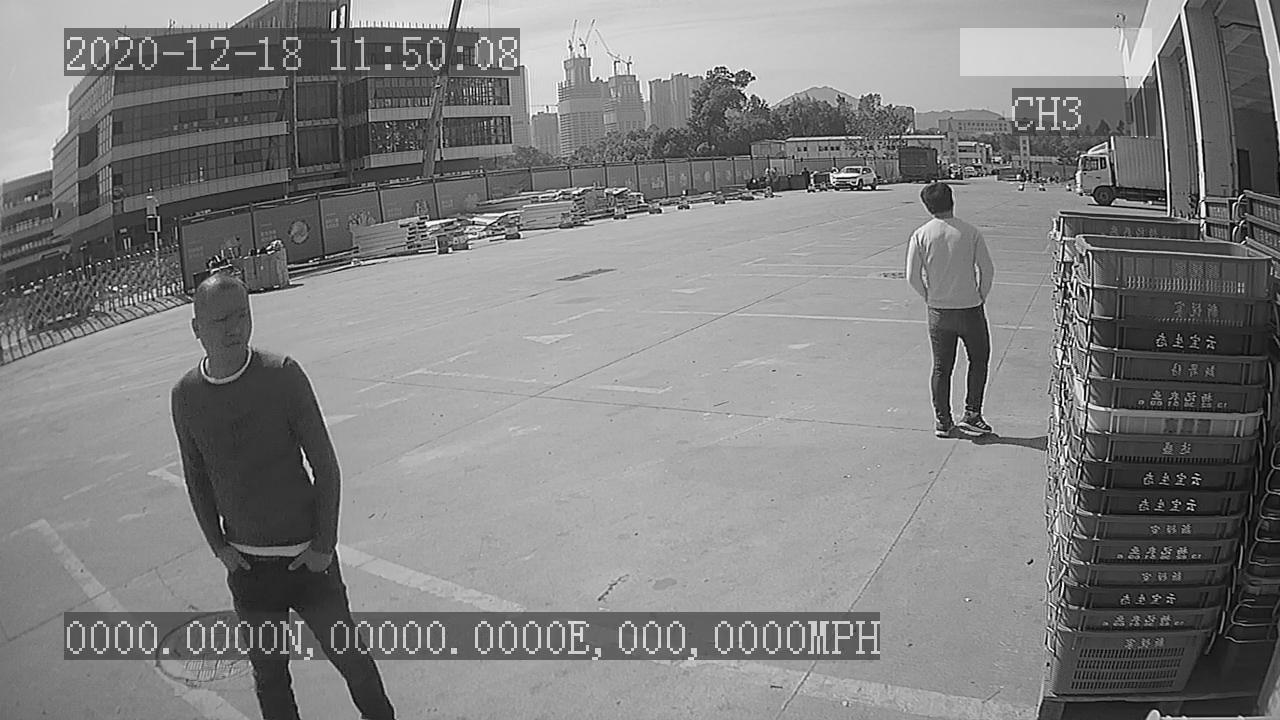person: (901, 183, 1004, 442)
